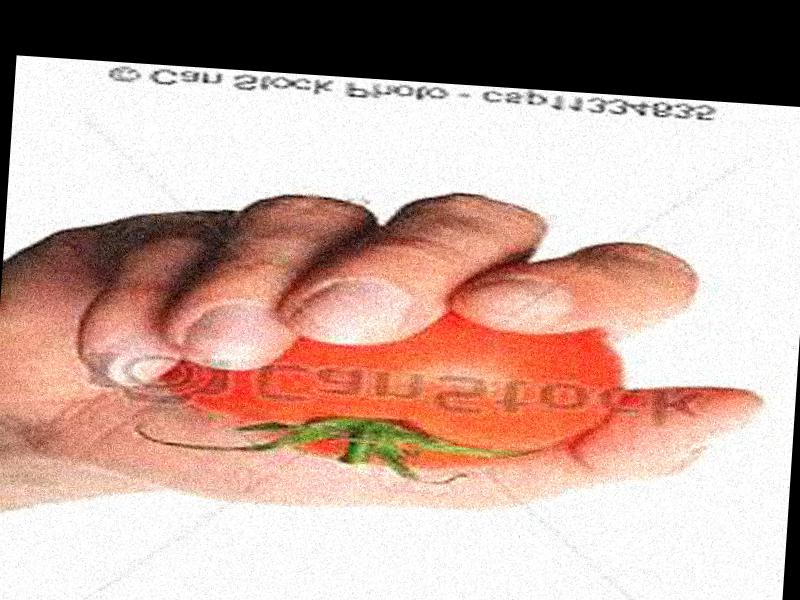Tomato: (161, 297, 626, 478)
